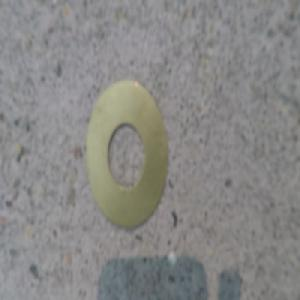Washer: (84, 79, 168, 223)
